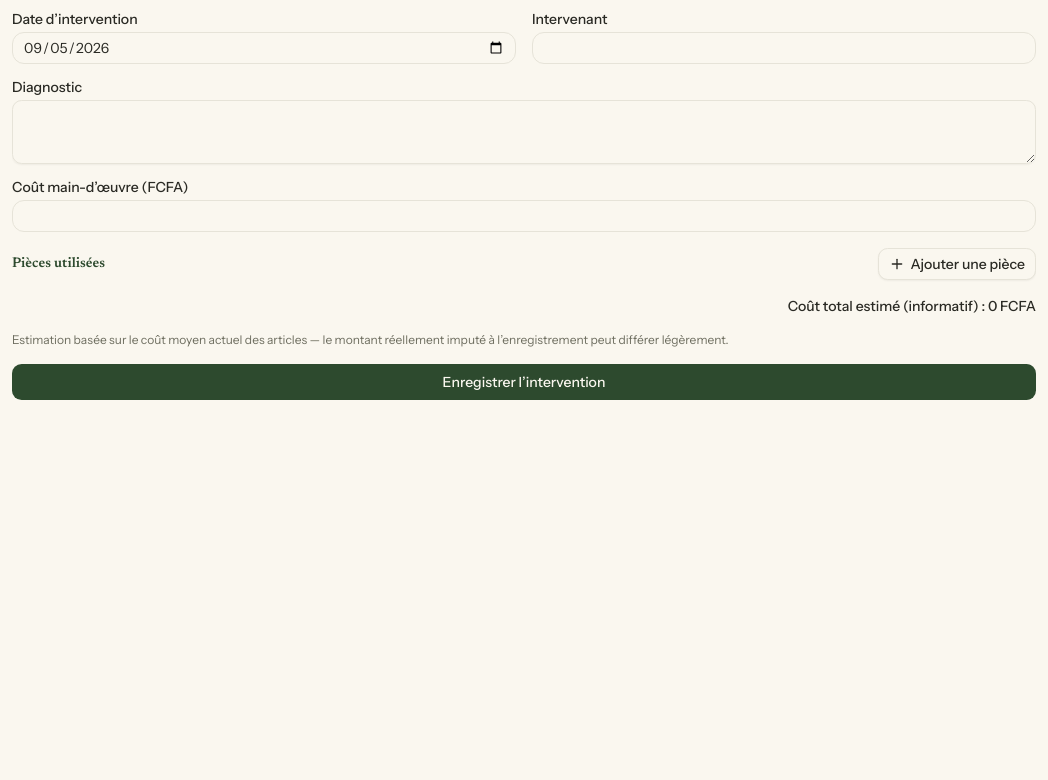
Test: MaintenanceInterventionForm › ajoute une ligne de pièce au clic sur « Ajouter une pièce »
The width and height of the screenshot is (1048, 780).
expect the text "Coût pièces estimé (informatif) : 0 FCFA" is not shown: met
Click the button "Ajouter une pièce". click: [957, 264]
box: top-left (878, 248), bottom-right (1036, 280)
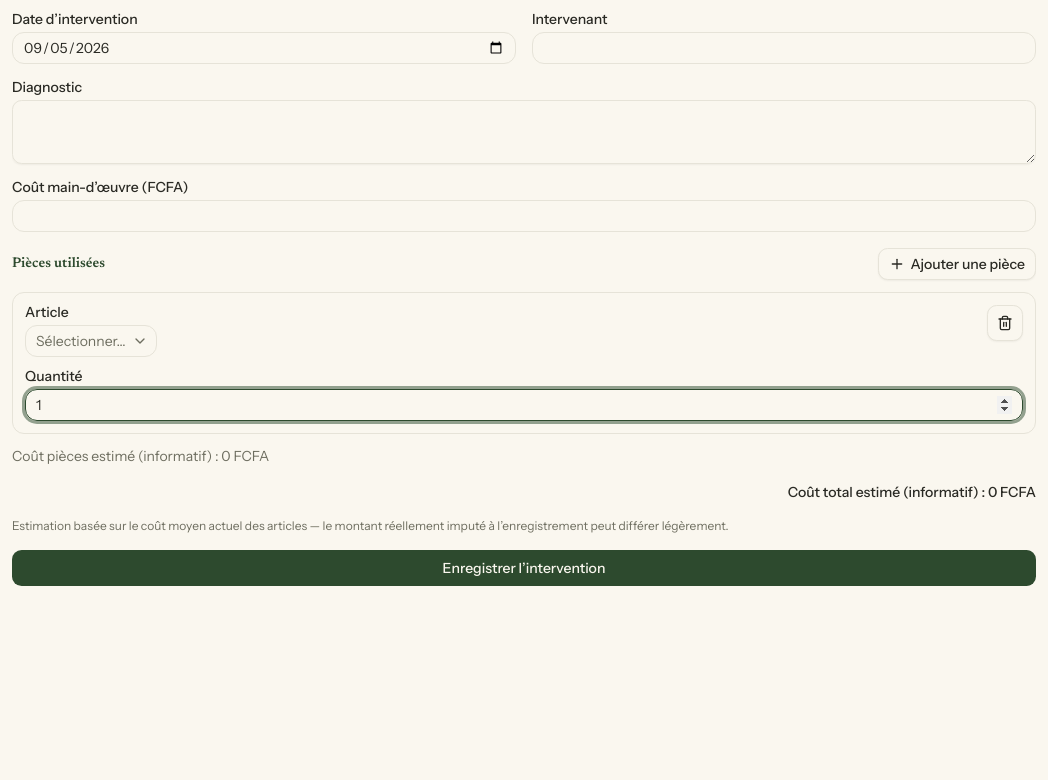
expect the text "Quantité" is shown: met, box top-left (25, 367), bottom-right (82, 385)
expect the text "Coût pièces estimé (informatif) : 0 FCFA" is shown: met, box top-left (12, 447), bottom-right (269, 465)
